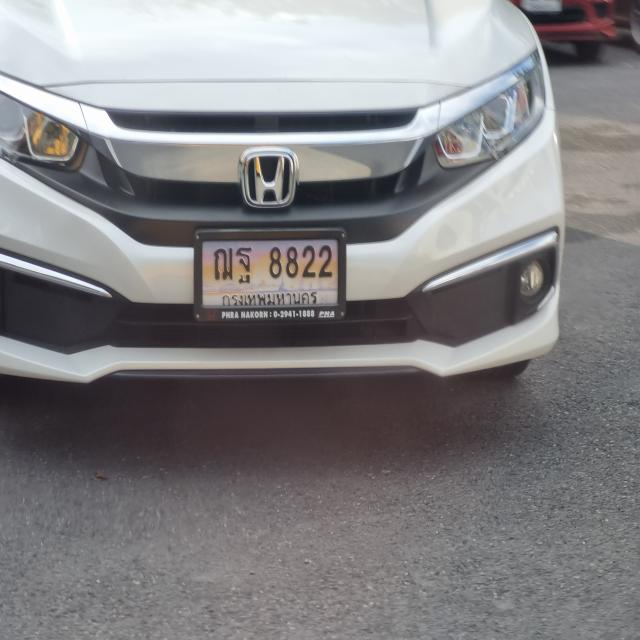license_plate: (194, 228, 346, 317)
